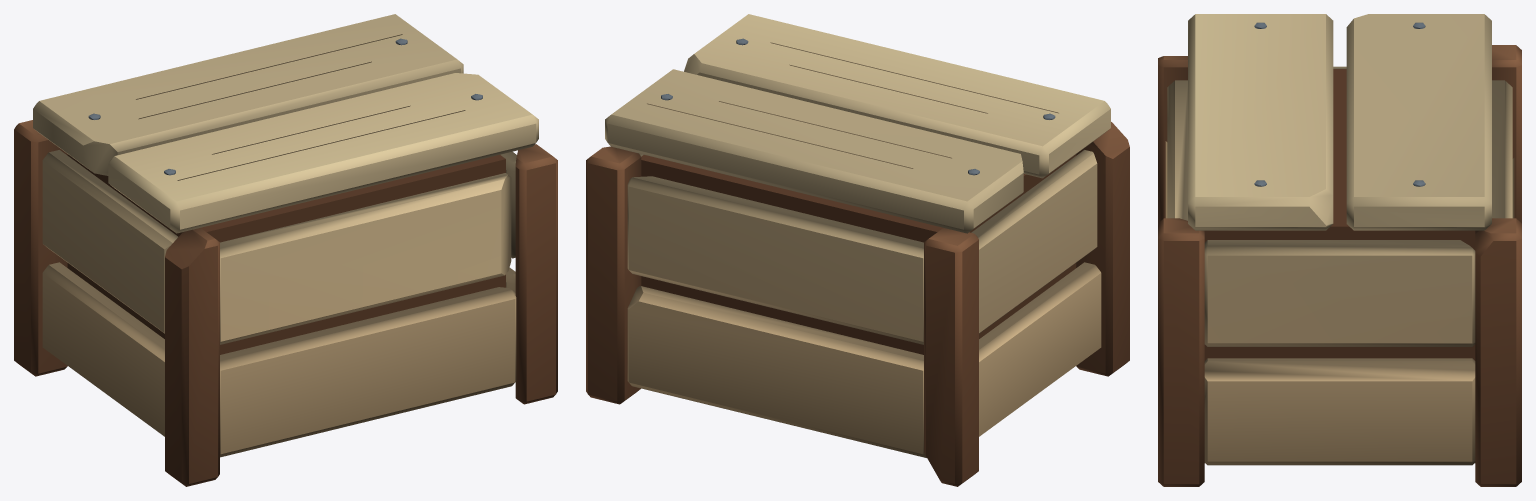
Rendered from drop-crate-v1.glb.
3 renders of one model, left to right at view 1: azimuth 30°, elevation 25°; view 2: azimuth 150°, elevation 25°; view 3: azimuth 270°, elevation 25°, orthographic. The views are drawn at different scales.
Parts seen in each view (by area): view 1: 0_crate; view 2: 0_crate; view 3: 0_crate.
Boxes of the visible parts, <box> form: 0_crate: <box>14,14,557,486</box>; 0_crate: <box>586,14,1129,486</box>; 0_crate: <box>1158,14,1521,486</box>.
Bounding box in the file's own units: 0.49 × 0.344 × 0.39.
